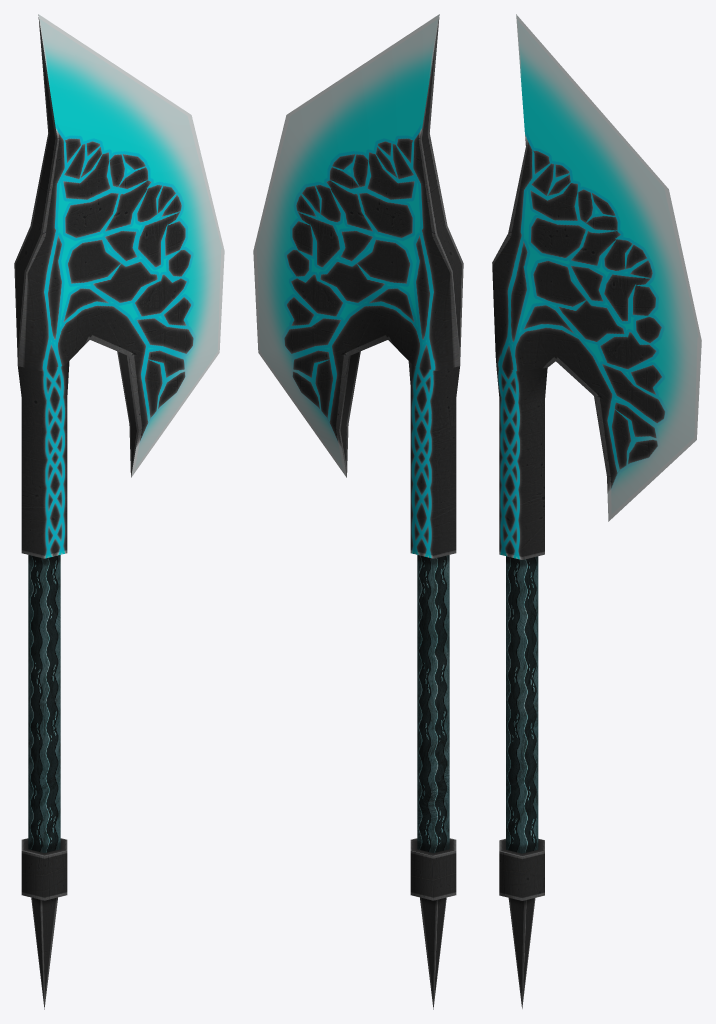
File: axe06_magic.FBX
3 views of the same model, side by side, from view 1: azimuth 30°, elevation 25°; view 2: azimuth 150°, elevation 25°; view 3: azimuth 330°, elevation 25° (orthographic).
Parts seen in each view (by area): view 1: axe06; view 2: axe06; view 3: axe06.
Boxes of the visible parts, x1,y1,x2,y2 form: axe06: (14,14,224,1009); axe06: (253,14,463,1009); axe06: (492,14,701,1008).
Bounding box in the file's own units: 0.434 × 2 × 0.0829.
